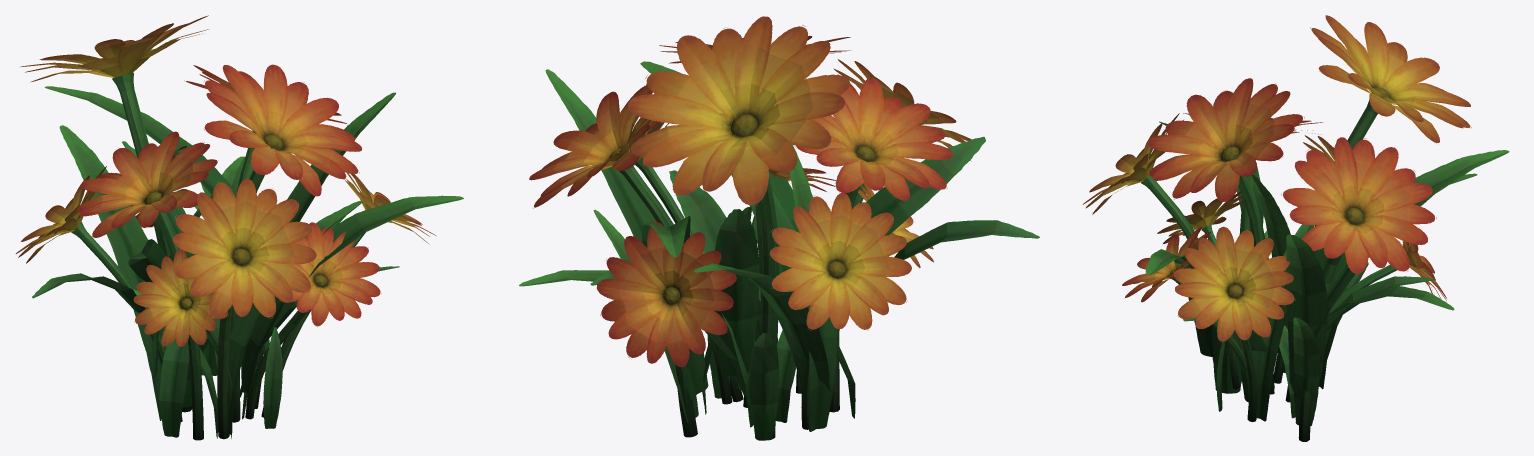
Rendered from P_Flowerbosiju_04.obj.
3 views of the same model, side by side, from view 1: azimuth 30°, elevation 25°; view 2: azimuth 150°, elevation 25°; view 3: azimuth 270°, elevation 25° (orthographic). The views are drawn at different scales.
Size of the model in its own units: 0.3968 by 0.3593 by 0.3869.
Materials: 1 (1 with a texture image).
